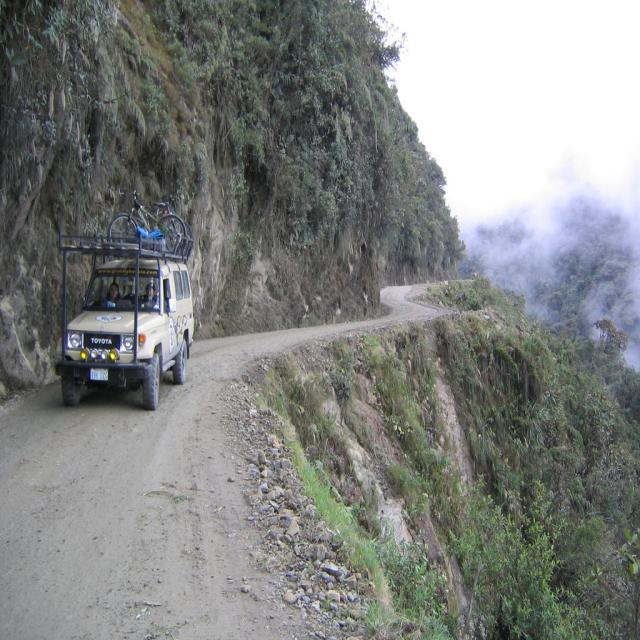car: (50, 253, 198, 408)
